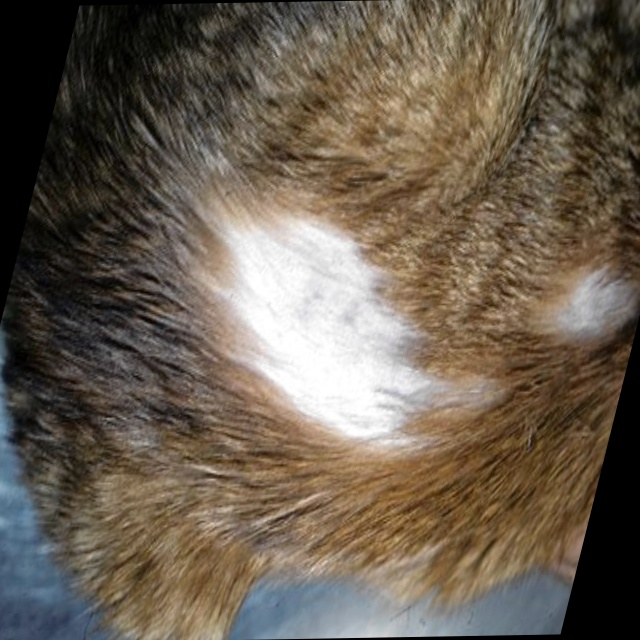hairloss: (173, 199, 500, 448), (566, 279, 638, 339)
